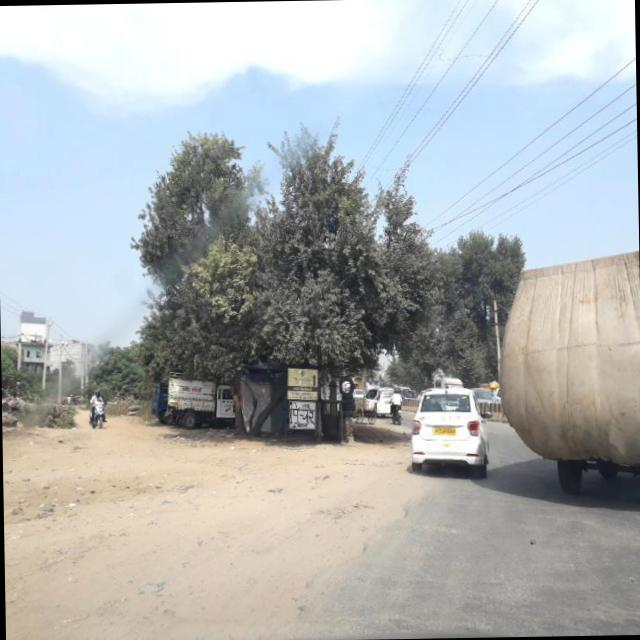pothole: (338, 498, 417, 560), (276, 564, 340, 632)
